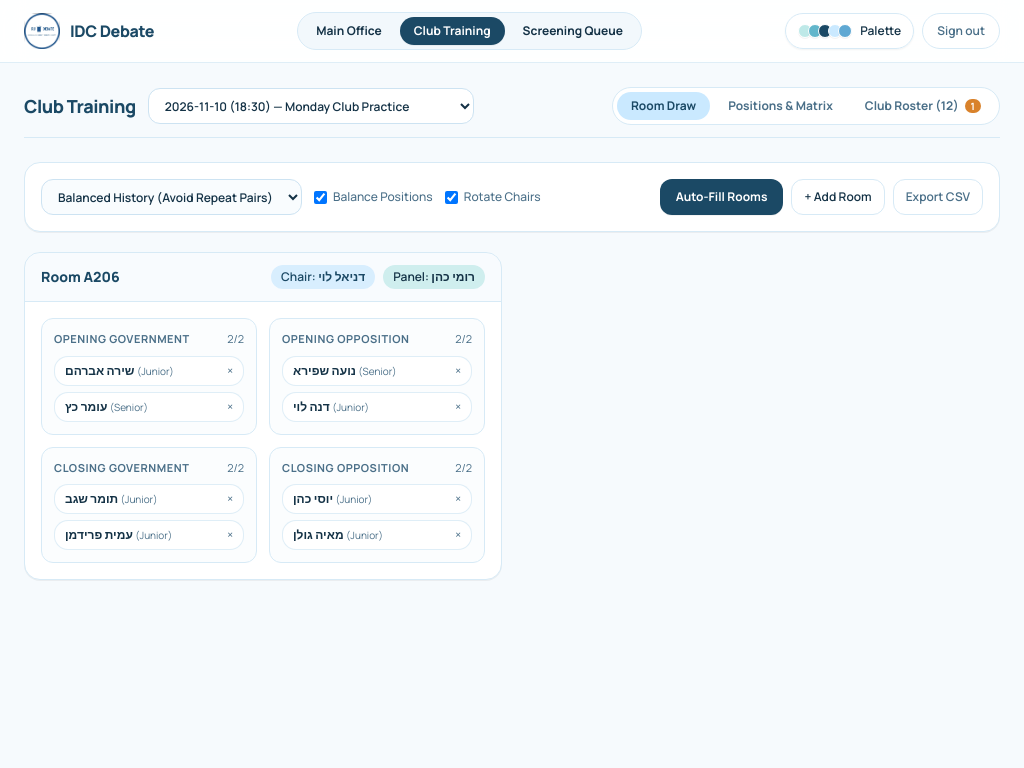
Scenario: TrainingHub & MainOffice — Lean Club Training UI › renders Room Draw, Positions & Matrix, and Club Roster with unified top navigation
Expected: the heading "Club Training" is shown, 24,92 -> 136,120
Expected: the text "Room A206" is shown, 41,267 -> 120,287
# Switch to Positions & Matrix tab
Click the tab "Positions & Matrix" at [781, 106], box 714,92 -> 847,120
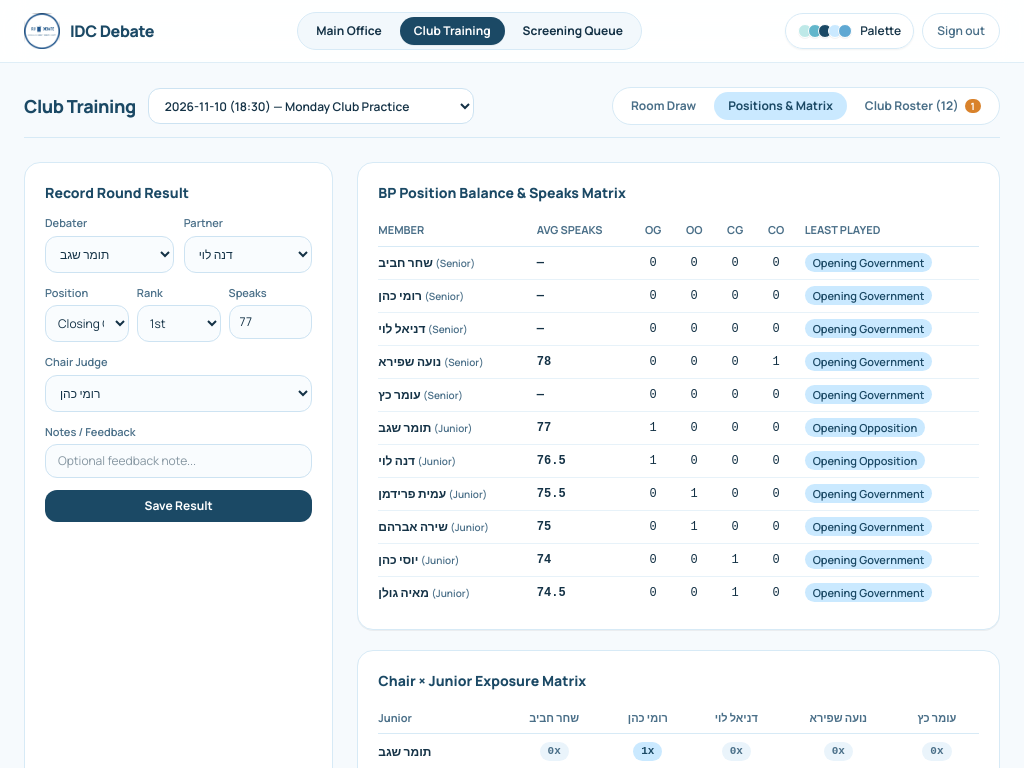
Expected: the heading "BP Position Balance & Speaks Matrix" is shown, 378,183 -> 626,202
Expected: the heading "Chair × Junior Exposure Matrix" is shown, 378,671 -> 586,690
# Switch to Club Roster tab and approve the Pending Google SSO member
Click the tab "Club Roster (12)1" at [923, 106], box 851,92 -> 995,120
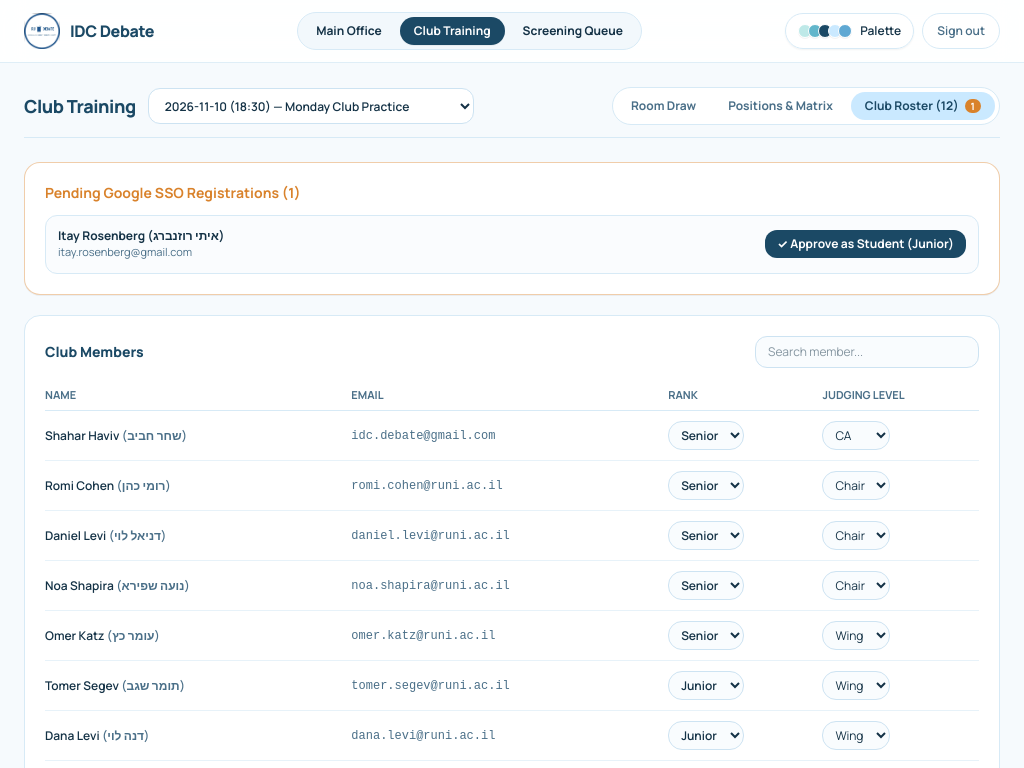
Expected: the heading "Pending Google SSO Registrations (1)" is shown, 45,183 -> 301,202
Click the button "✓ Approve as Student (Junior)" at [866, 244], box 765,230 -> 966,258
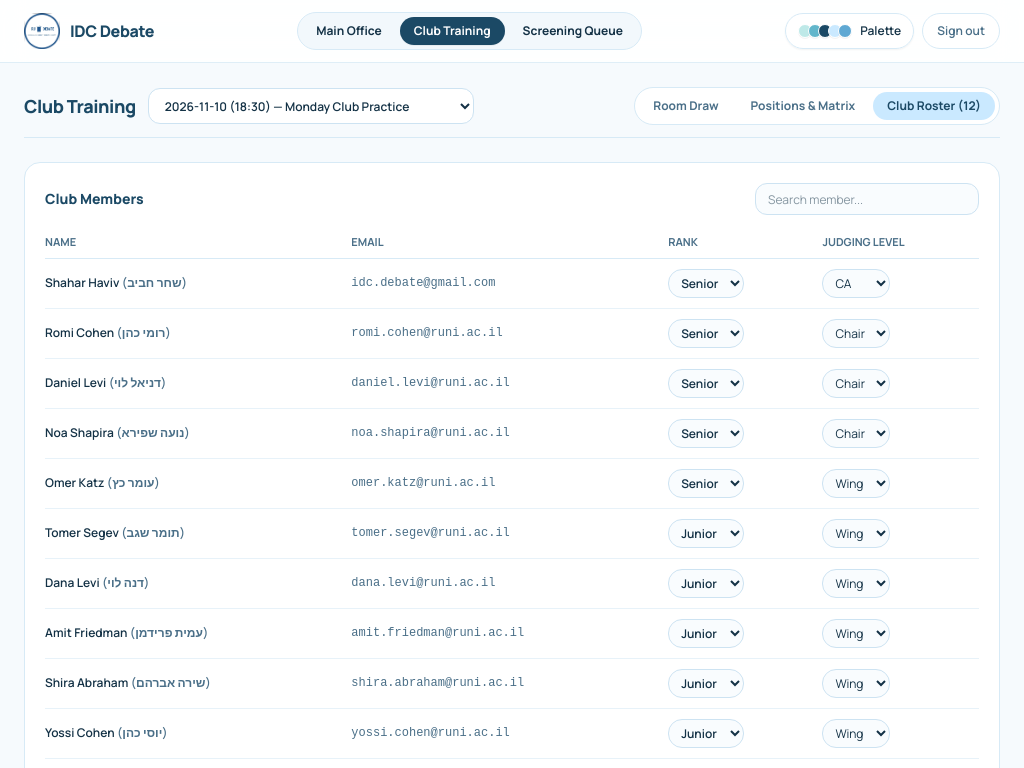
Expected: the heading "Pending Google SSO Registrations" is gone
